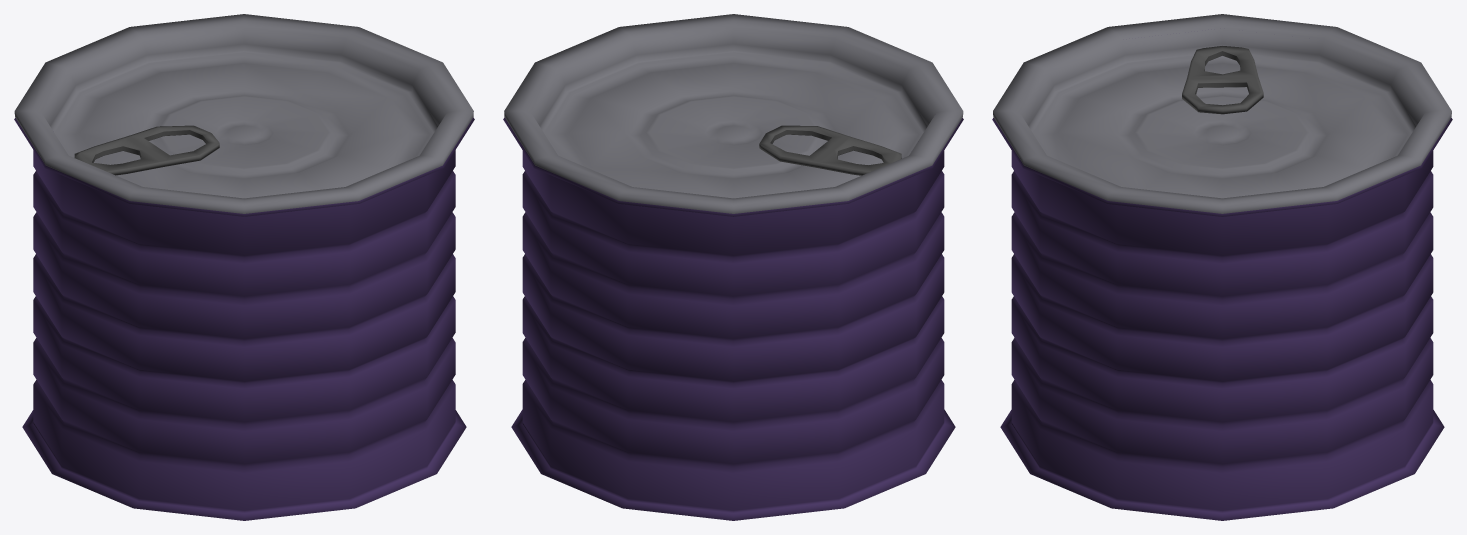
File: LataRoxa.fbx
3 views of the same model, side by side, from view 1: azimuth 30°, elevation 25°; view 2: azimuth 150°, elevation 25°; view 3: azimuth 270°, elevation 25° (orthographic).
Visible parts, largest first — view 1: Lata4.retopo, Tampa4.retopo; view 2: Lata4.retopo, Tampa4.retopo; view 3: Lata4.retopo, Tampa4.retopo.
Boxes of the visible parts, left/top/right/bottom form: Lata4.retopo: left=14, top=117, right=474, bottom=520; Tampa4.retopo: left=14, top=14, right=473, bottom=213; Lata4.retopo: left=503, top=117, right=963, bottom=520; Tampa4.retopo: left=504, top=14, right=963, bottom=213; Lata4.retopo: left=992, top=118, right=1452, bottom=520; Tampa4.retopo: left=993, top=14, right=1451, bottom=213.
Size of the model in its own units: 126 by 95.73 by 126.
